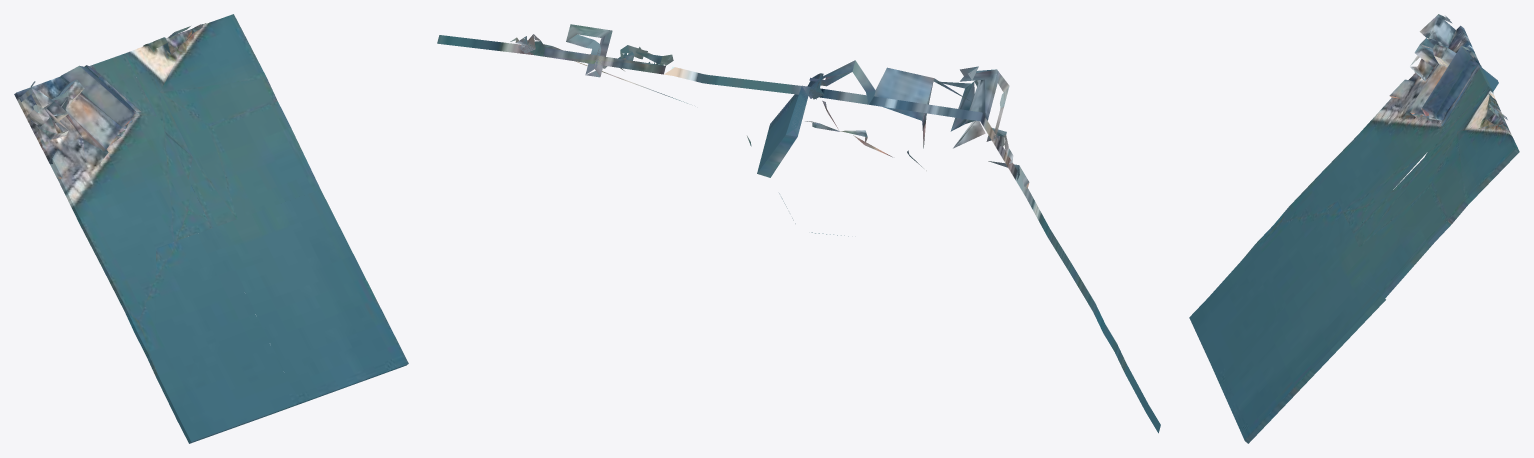
File: AJVsH2zdB4jjcg1Sy3AtFhXhjgm7Esr3NMhN2sjlLOQoa3ZPgNZMLp_ozHnD4sw2Z5z9OWJ5OyqIjfzAJwZToaaNiT_mzEyVNFgR1SNsOGVttL3kHuVWpZXM9hKgzyyGogRtGqUy8nLLdB-rrGY8hYf-kYR5CLNQfw.glb
The picture shows the model from 3 angles, left to right: view 1: azimuth 30°, elevation 25°; view 2: azimuth 150°, elevation 25°; view 3: azimuth 270°, elevation 25°; orthographic projection. The views are drawn at different scales.
Bounding box in the file's own units: 513 × 481 × 496.
Materials: 1 (1 with a texture image).
